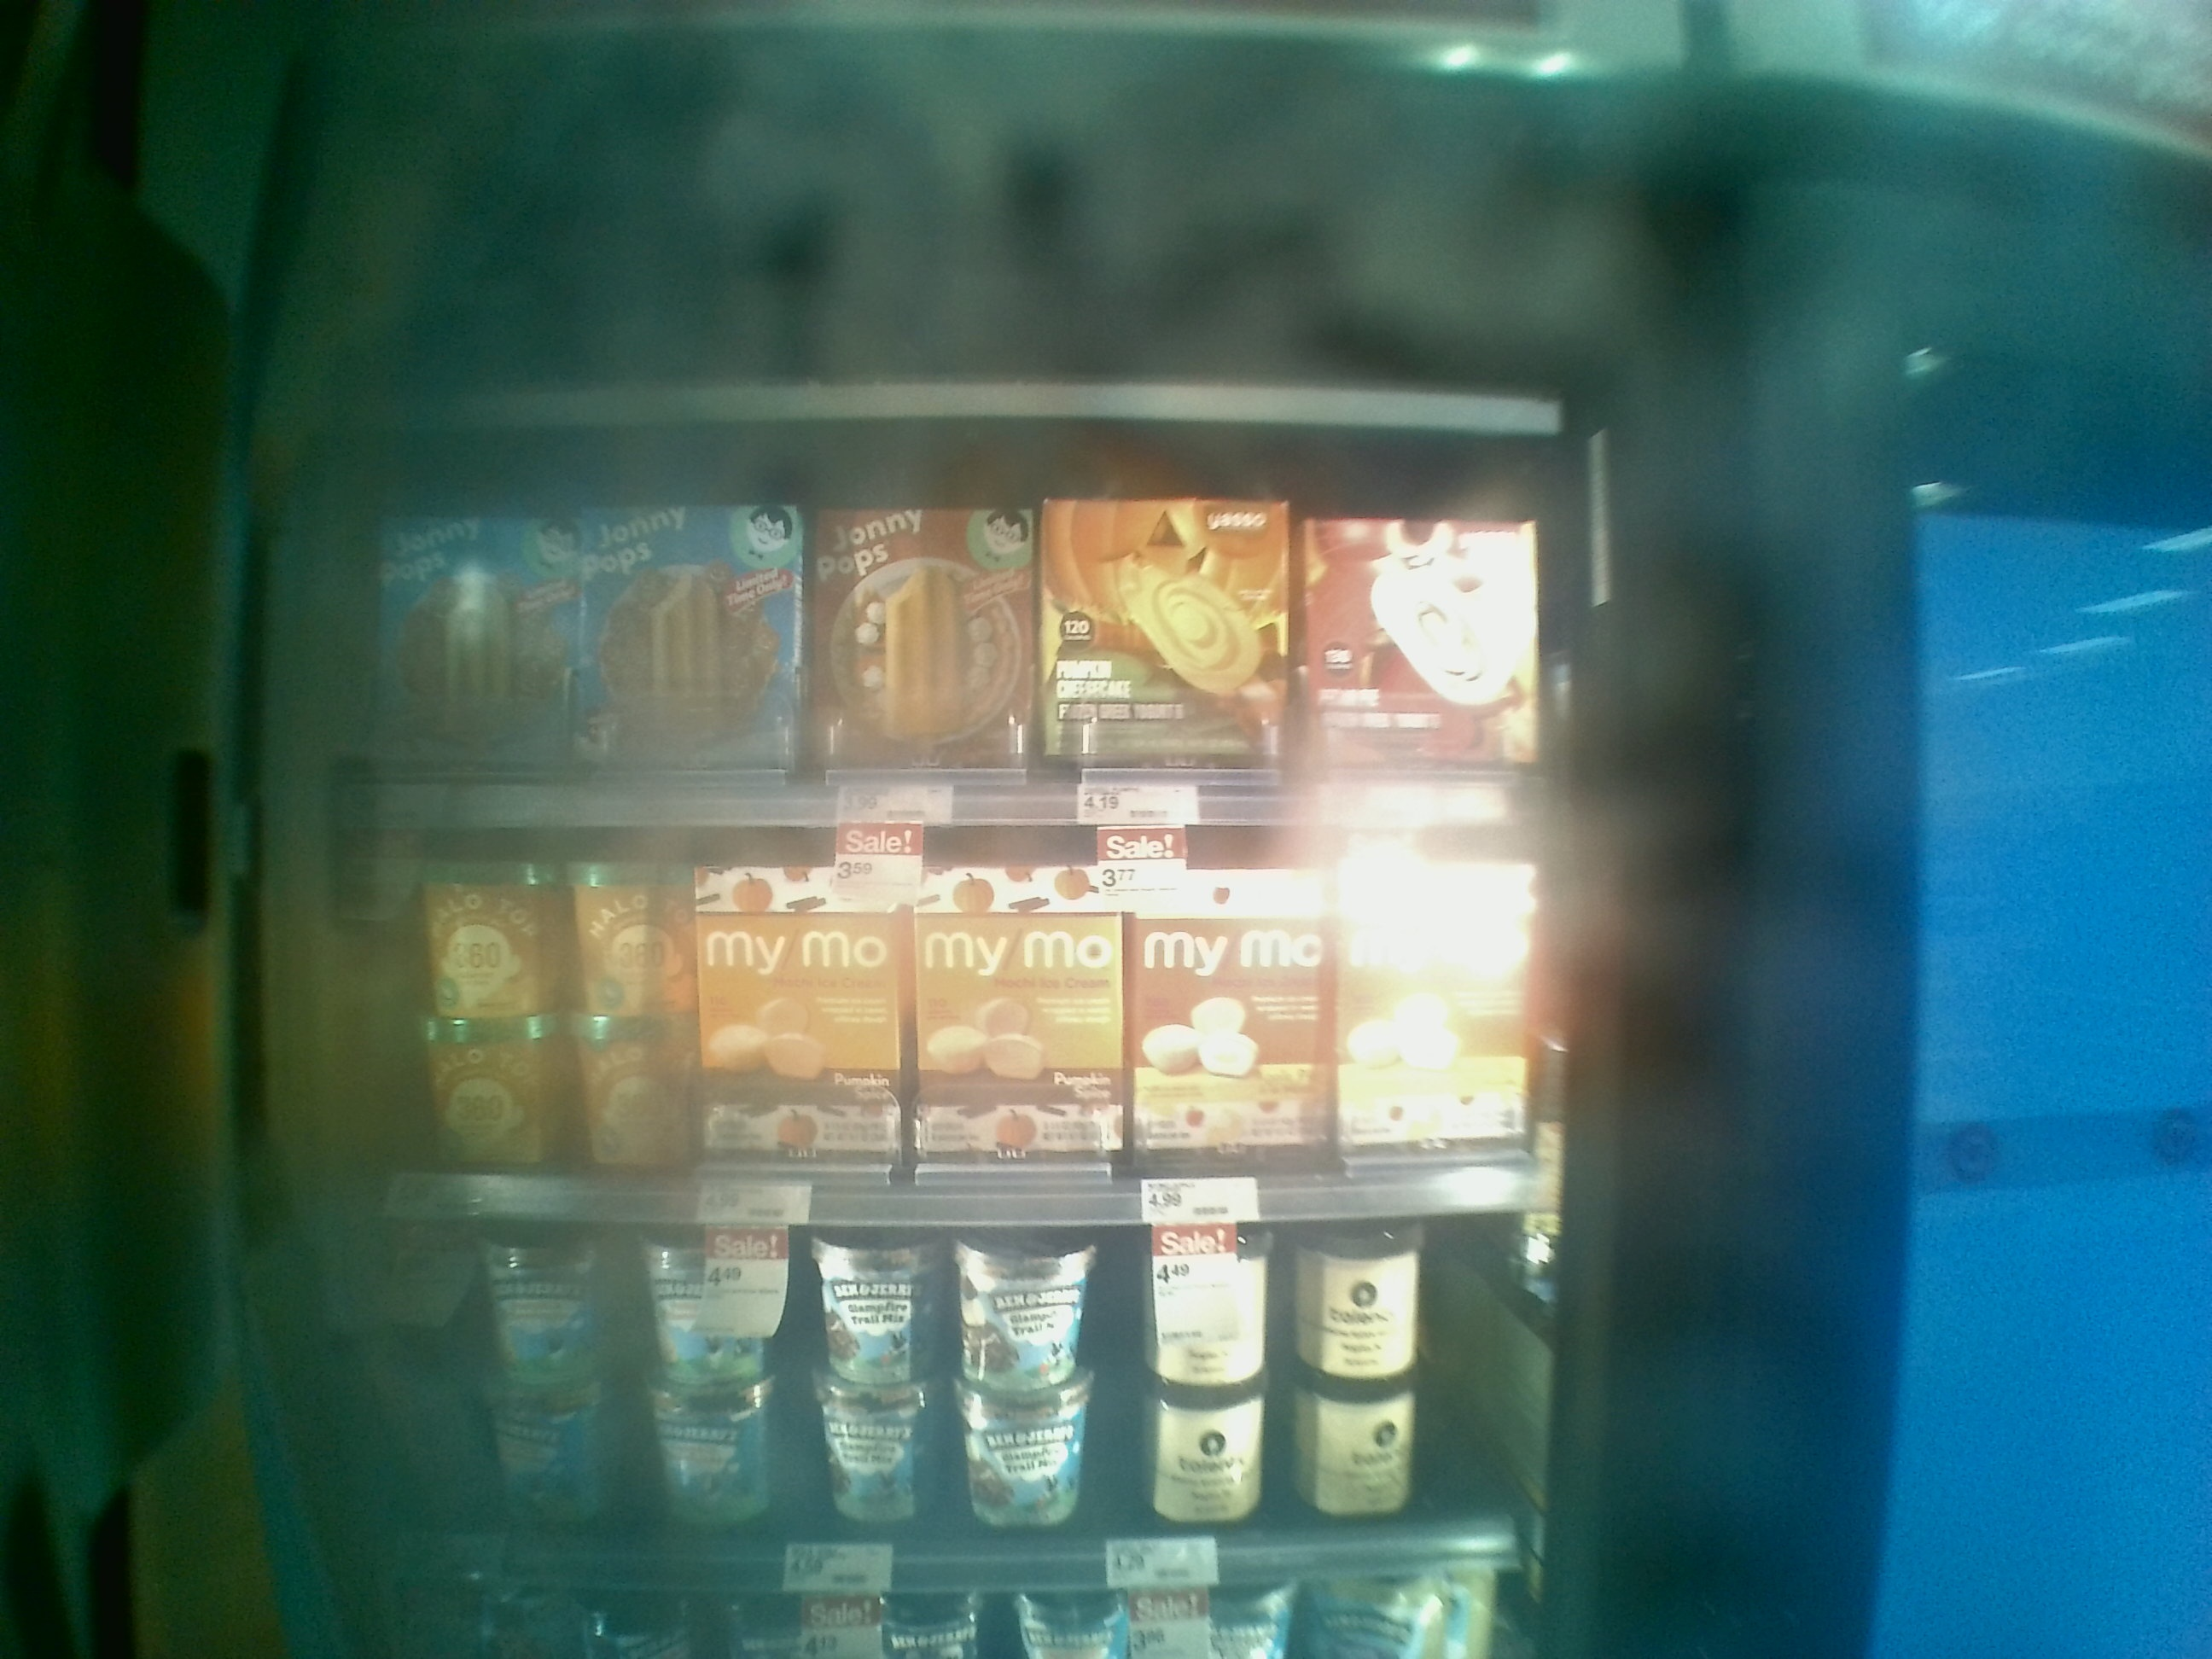shelf: (280, 423, 1581, 823), (291, 826, 1571, 1223), (286, 1225, 1564, 1567)
